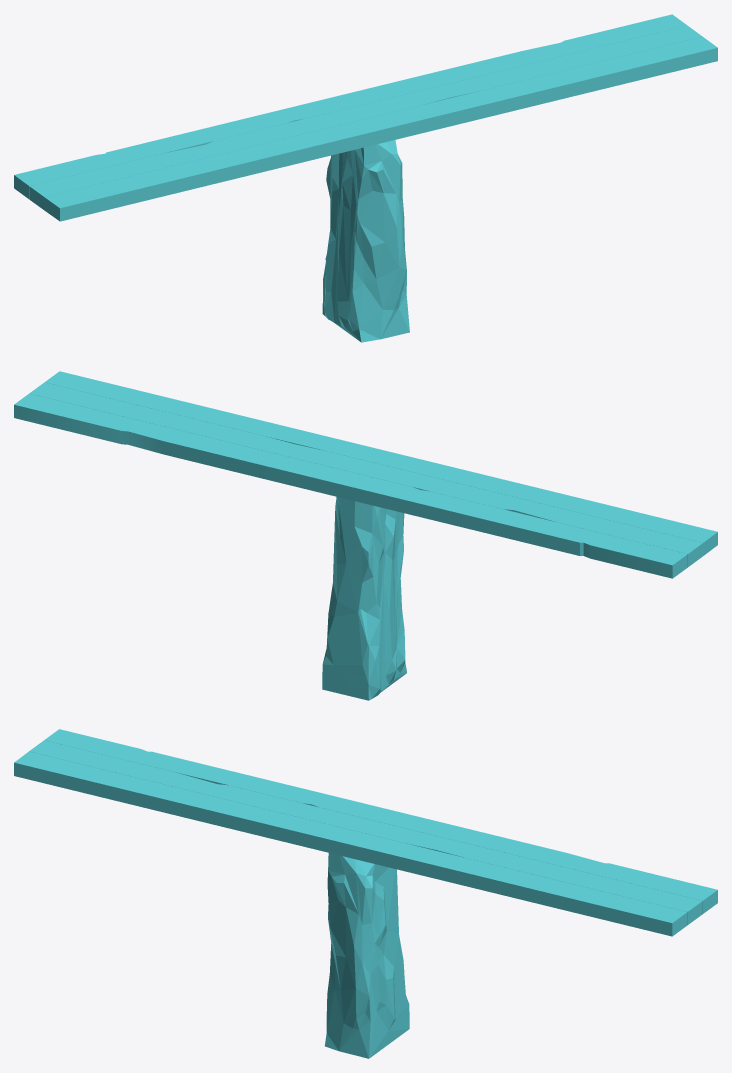
File: Platform1.fbx
3 views of the same model, one above another, from view 1: azimuth 30°, elevation 25°; view 2: azimuth 150°, elevation 25°; view 3: azimuth 330°, elevation 25° (orthographic).
Parts seen in each view (by area): view 1: New_platform1; view 2: New_platform1; view 3: New_platform1.
Part boxes in pixels (x1=…): New_platform1: x1=14, y1=14, x2=717, y2=342; New_platform1: x1=14, y1=371, x2=717, y2=700; New_platform1: x1=14, y1=729, x2=717, y2=1058.
Bounding box in the file's own units: 4209 × 1297 × 506.
